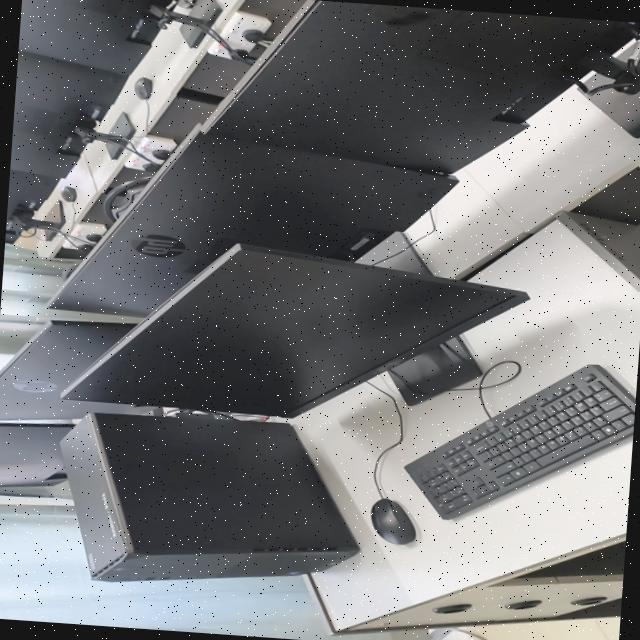Chair: (103, 175, 151, 222)
Cpu: (60, 412, 359, 580)
Keyboard: (405, 363, 635, 518)
Monitor: (61, 243, 528, 416), (49, 130, 458, 316), (205, 0, 640, 172), (10, 50, 134, 180), (0, 320, 161, 420), (18, 0, 148, 73), (0, 422, 73, 485), (5, 168, 65, 242)
Mouse: (370, 497, 415, 543), (133, 76, 152, 98), (60, 184, 75, 200)
